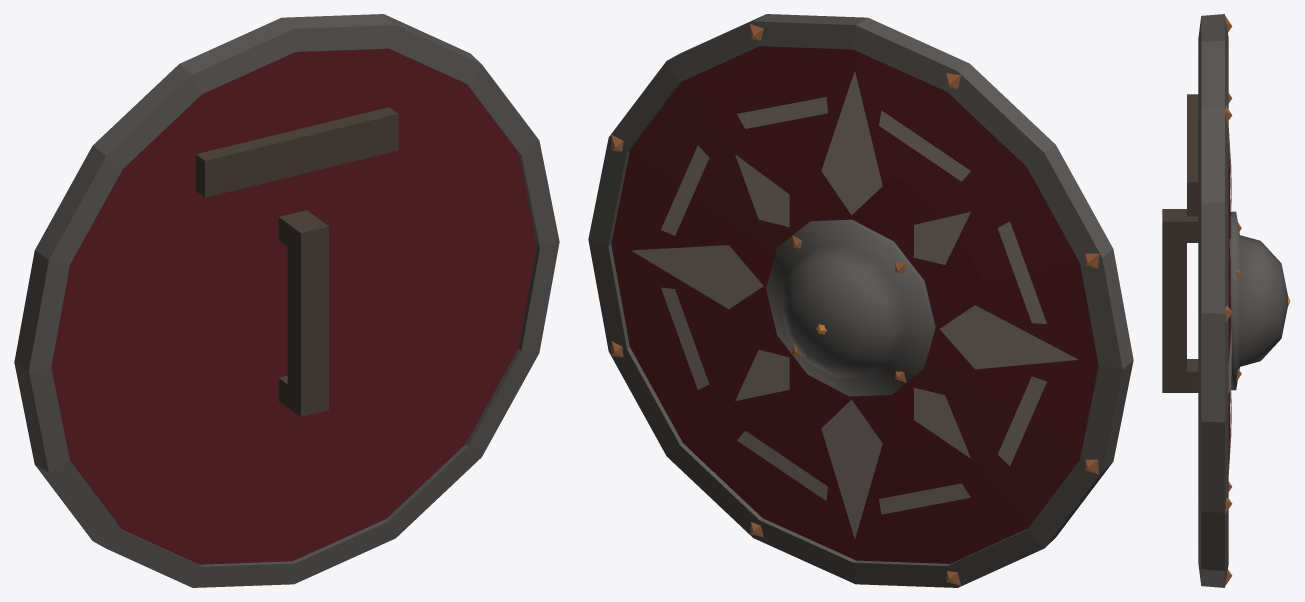
The model's file is held-shield.glb.
The picture shows the model from 3 angles, left to right: view 1: azimuth 30°, elevation 25°; view 2: azimuth 150°, elevation 25°; view 3: azimuth 270°, elevation 25°; orthographic projection. The views are drawn at different scales.
Visible parts, largest first — view 1: board, rim, strap, grip; view 2: board, rim, sigil, boss, rivets; view 3: rim, boss, grip, strap, board, rivets, sigil.
Part boxes in pixels (bbox=[...]): board: bbox=[51, 48, 536, 564]; rim: bbox=[14, 14, 559, 587]; strap: bbox=[196, 107, 398, 197]; grip: bbox=[278, 210, 328, 416]; board: bbox=[611, 46, 1098, 563]; rim: bbox=[588, 14, 1133, 587]; sigil: bbox=[631, 71, 1078, 538]; boss: bbox=[766, 219, 935, 396]; rivets: bbox=[611, 23, 1099, 585]; rim: bbox=[1198, 14, 1228, 587]; boss: bbox=[1230, 211, 1287, 390]; grip: bbox=[1162, 209, 1198, 392]; strap: bbox=[1187, 94, 1198, 216]; board: bbox=[1228, 145, 1230, 464]; rivets: bbox=[1225, 15, 1241, 586]; sigil: bbox=[1228, 128, 1231, 473].
Size of what is drawn, in the model's own units: 0.608 by 0.608 by 0.1355.
